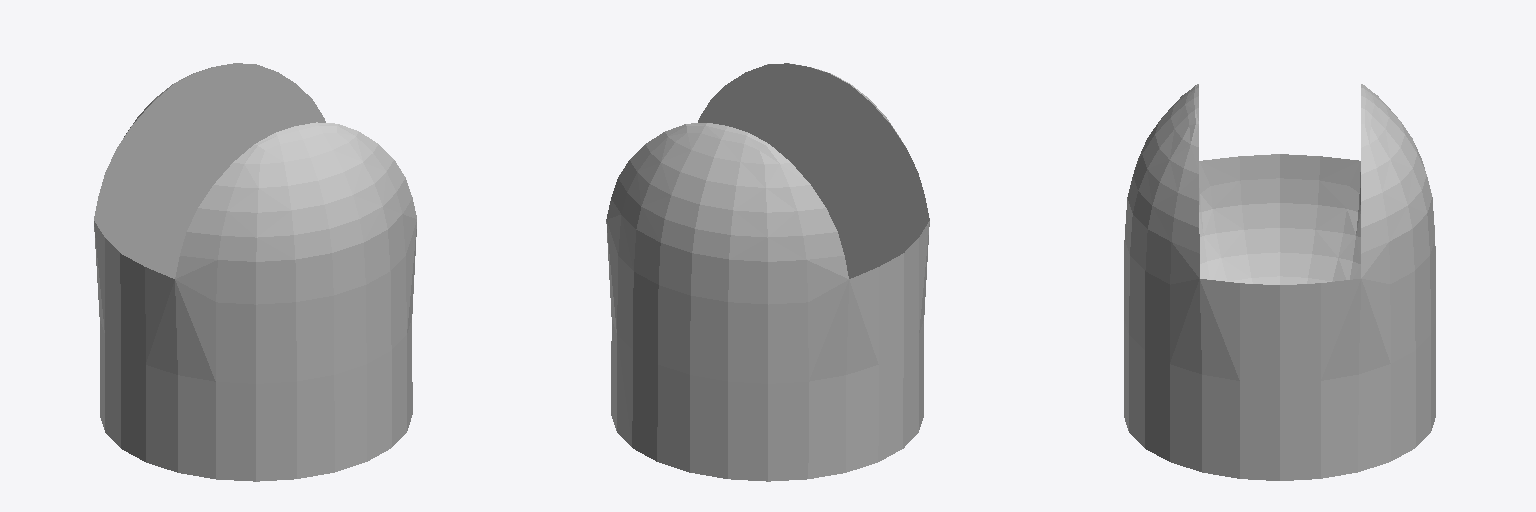
The model's file is Tr-Grue-LeverBase-X_01.obj.
3 views of the same model, side by side, from view 1: azimuth 30°, elevation 25°; view 2: azimuth 150°, elevation 25°; view 3: azimuth 270°, elevation 25° (orthographic).
Parts seen in each view (by area): view 1: Tr-Grue-LeverBase-X_01_BaseLevier.003; view 2: Tr-Grue-LeverBase-X_01_BaseLevier.003; view 3: Tr-Grue-LeverBase-X_01_BaseLevier.003.
Part boxes in pixels (bbox=[...]): Tr-Grue-LeverBase-X_01_BaseLevier.003: bbox=[94, 63, 416, 481]; Tr-Grue-LeverBase-X_01_BaseLevier.003: bbox=[606, 63, 929, 481]; Tr-Grue-LeverBase-X_01_BaseLevier.003: bbox=[1124, 84, 1435, 480].
Size of the model in its own units: 0.0726 by 0.0817 by 0.0725.